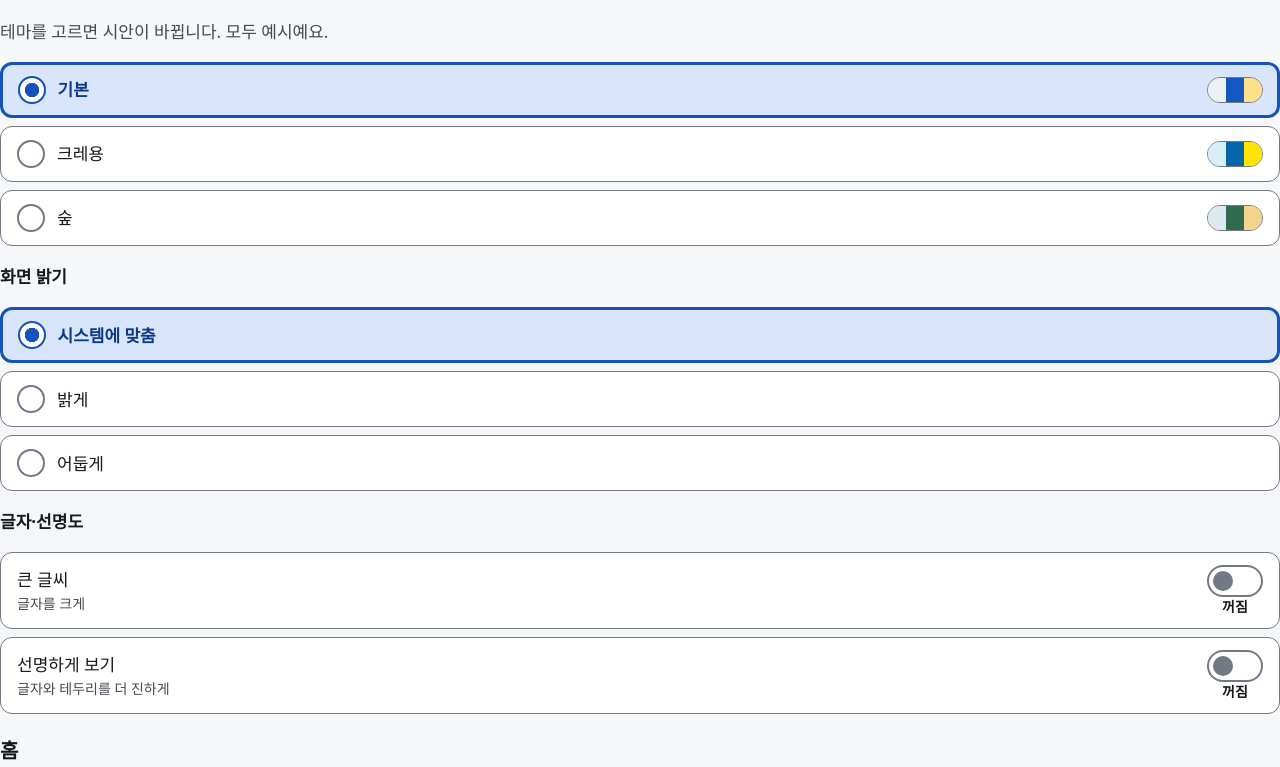
DesignPreview › changes decor with the theme but keeps the same text
Click the radio button labelled "크레용" at (31, 154), box [17,140,45,168]
(page scrolled)
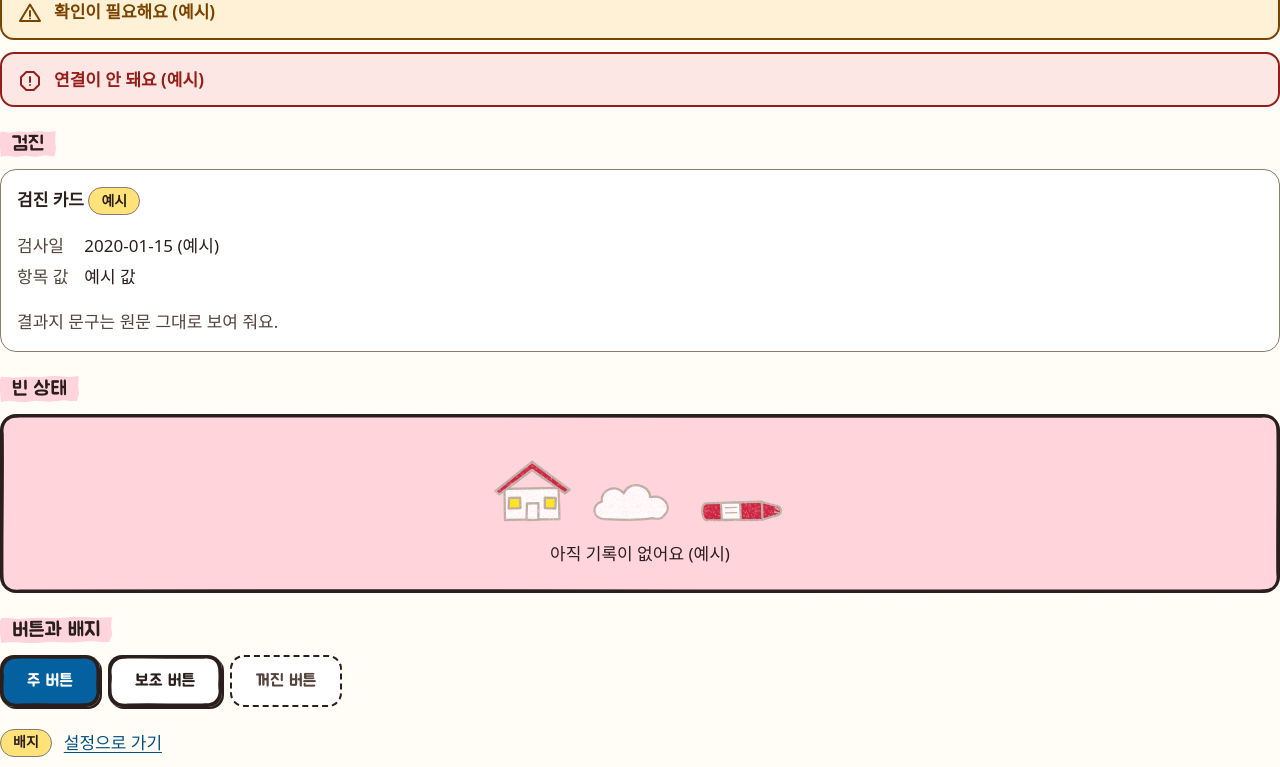
Expected: the text "아직 기록이 없어요 (예시)" is shown, [550,540,730,567]
Expected: the 3rd icon is shown, [488,454,576,528]
